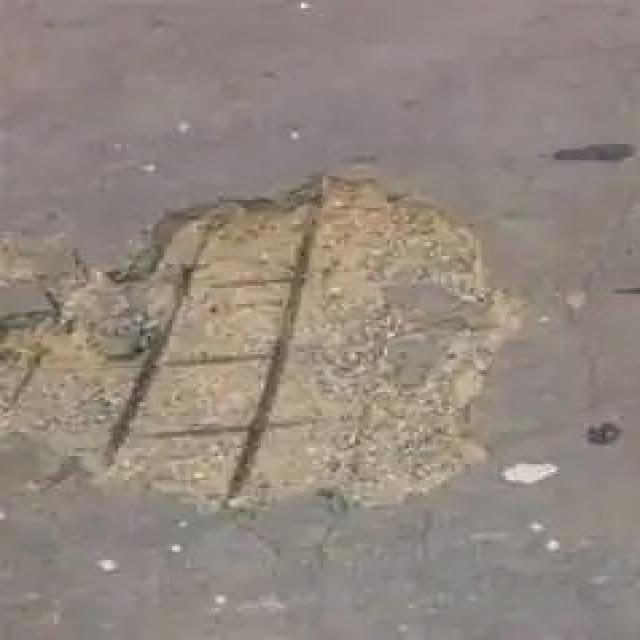Pothole: (8, 172, 495, 508)
